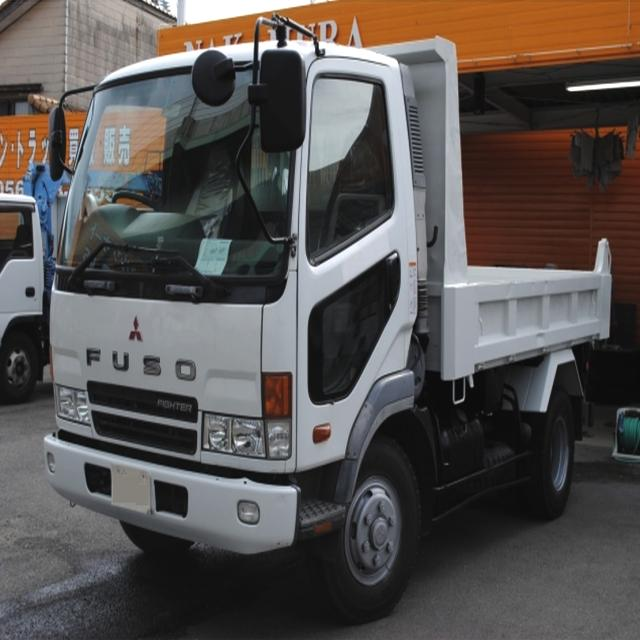truck: (43, 15, 614, 606)
